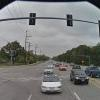Traffic light: (19, 6, 77, 32)
